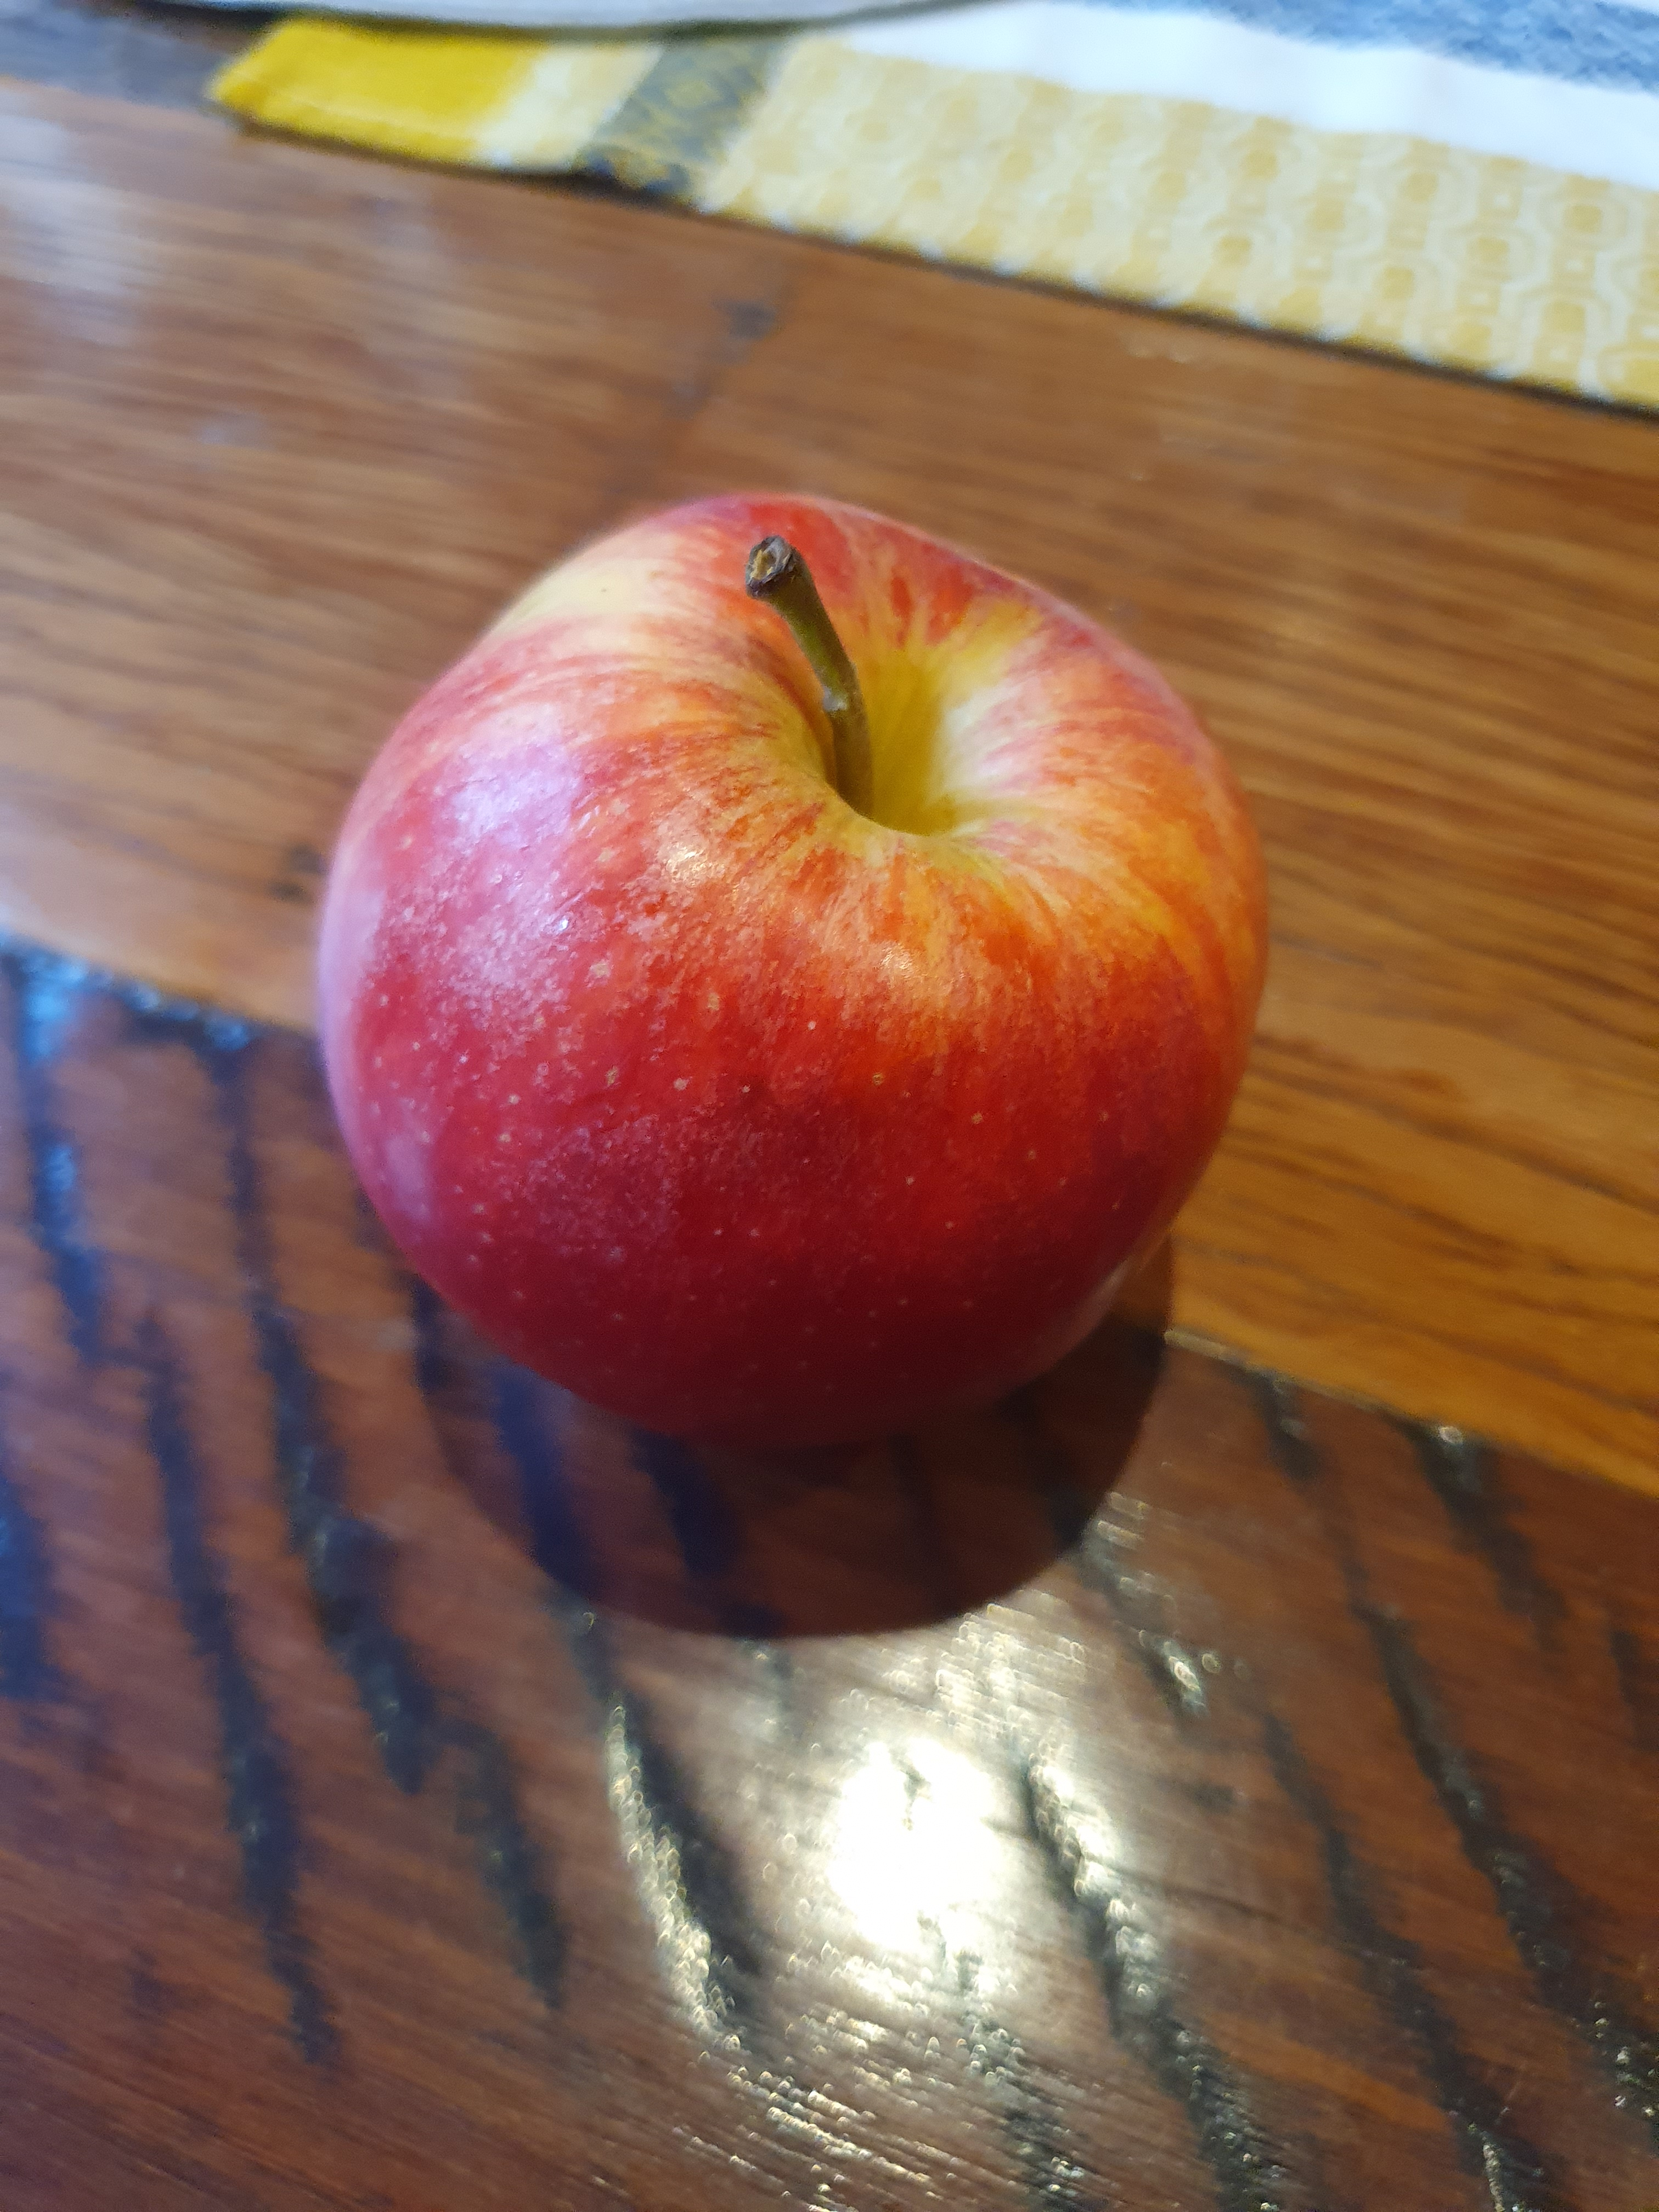red_apple: (288, 467, 1295, 1489)
